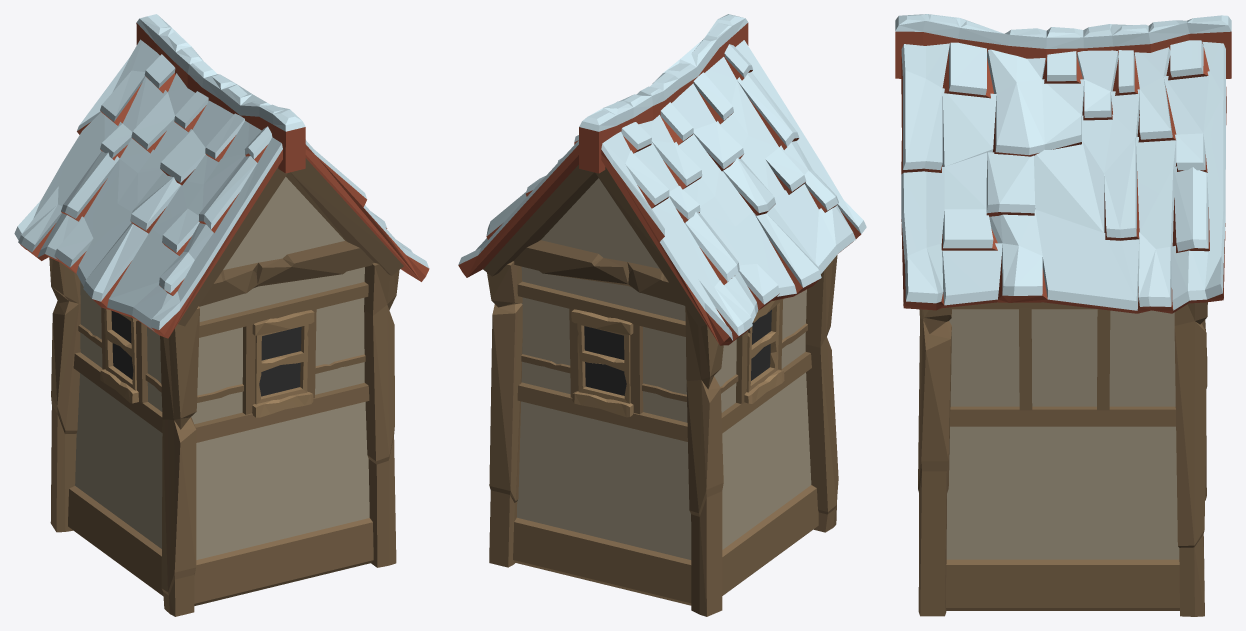
File: SM_Bld_House_RoomTall_02_Snow.gltf
3 renders of one model, left to right at view 1: azimuth 30°, elevation 25°; view 2: azimuth 150°, elevation 25°; view 3: azimuth 270°, elevation 25°, orthographic. The views are drawn at different scales.
Parts seen in each view (by area): view 1: SM_Bld_House_RoomTall_02_Snow; view 2: SM_Bld_House_RoomTall_02_Snow; view 3: SM_Bld_House_RoomTall_02_Snow.
Boxes of the visible parts, x1,y1,x2,y2 form: SM_Bld_House_RoomTall_02_Snow: (14,14,429,616); SM_Bld_House_RoomTall_02_Snow: (458,14,866,616); SM_Bld_House_RoomTall_02_Snow: (895,14,1231,616).
Size of the model in its own units: 3.6 by 5.75 by 3.26.
Materials: 1 (1 with a texture image).
